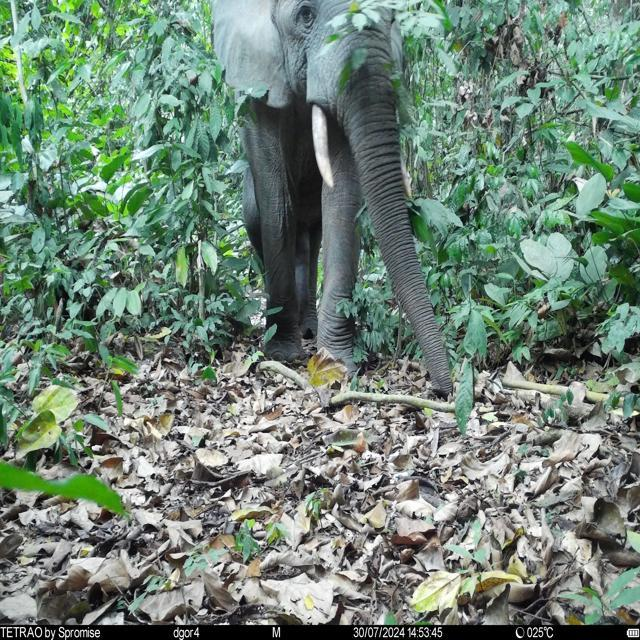ear: (209, 0, 293, 109)
elephant: (210, 1, 460, 402)
tusk: (310, 104, 335, 188)
